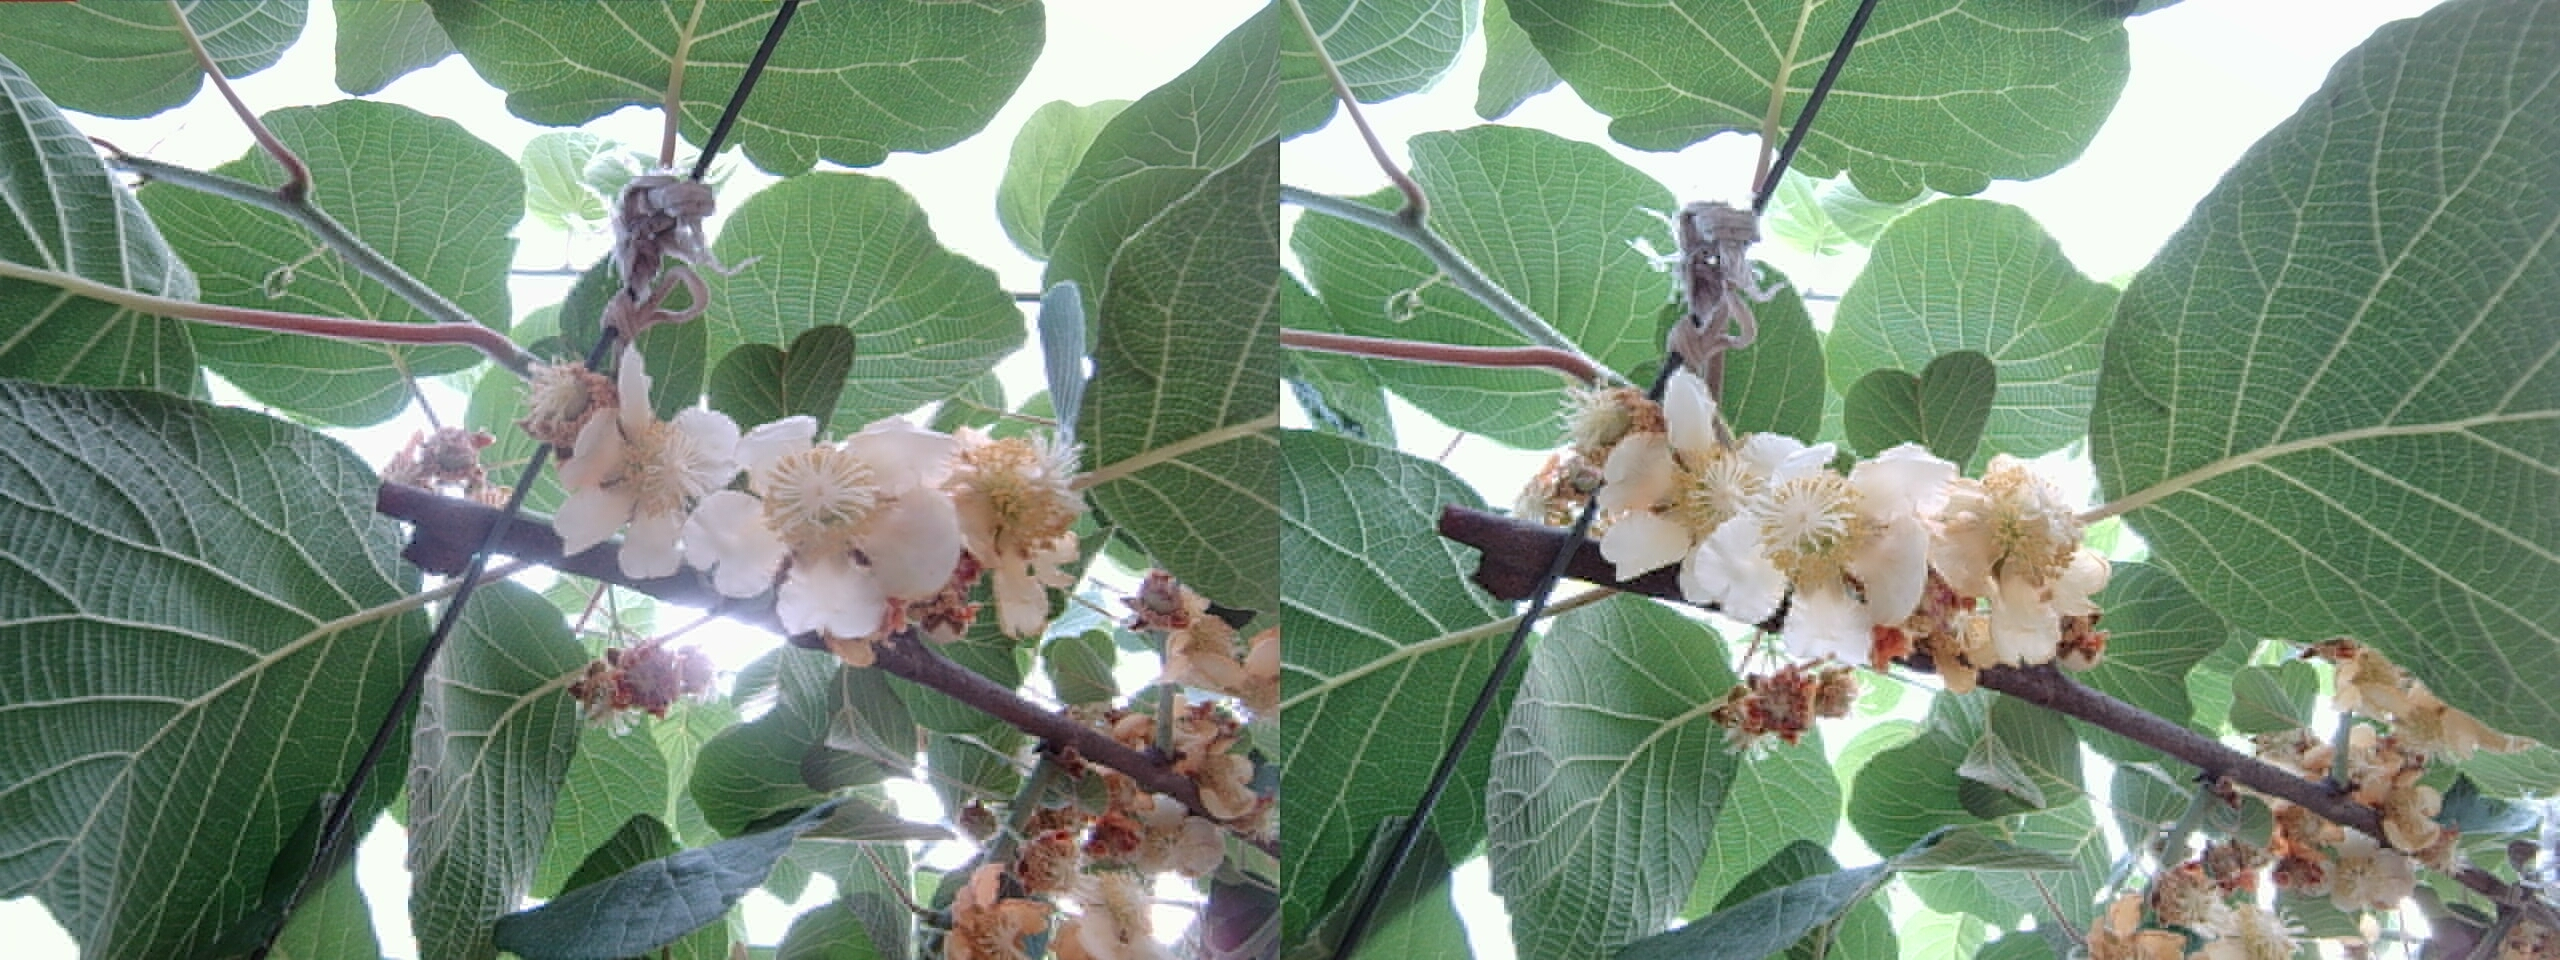flower: (705, 411, 963, 635), (1683, 446, 1935, 651), (867, 410, 1096, 624), (531, 359, 754, 576), (1954, 441, 2109, 673), (1571, 384, 1762, 565), (1869, 464, 1995, 663), (1711, 647, 1896, 746)
